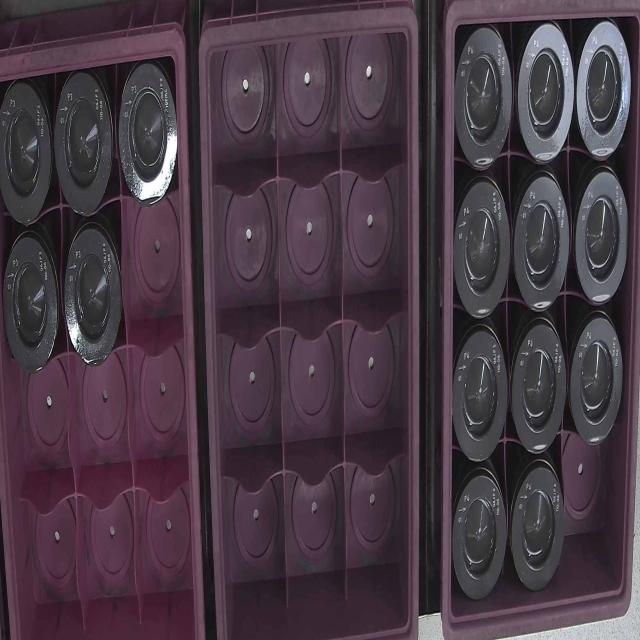P3: (2, 235, 61, 378), (53, 83, 116, 207), (0, 85, 53, 230), (64, 230, 121, 363), (118, 72, 178, 196)
P4: (456, 177, 513, 324), (455, 34, 516, 169), (516, 178, 570, 318), (576, 28, 634, 158), (519, 27, 572, 166), (576, 177, 631, 309), (454, 331, 507, 465), (513, 328, 565, 458), (512, 469, 564, 596), (571, 325, 624, 449), (454, 478, 507, 601)
